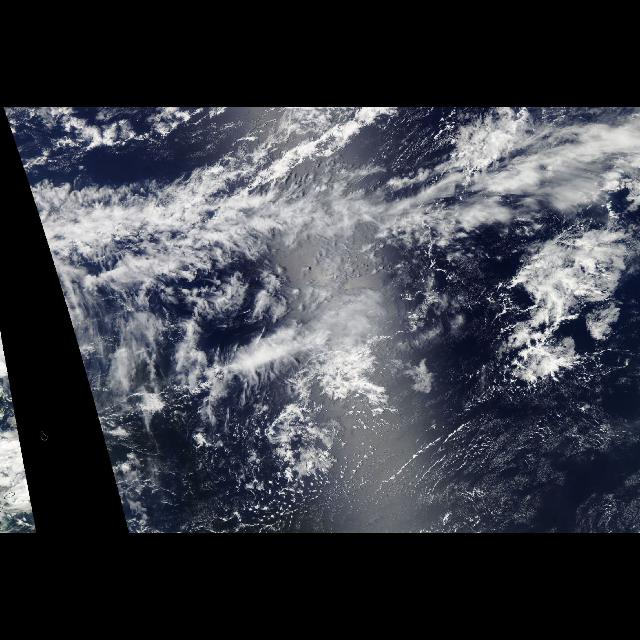Fish: (30, 115, 628, 401)
Sugar: (336, 395, 634, 529)
